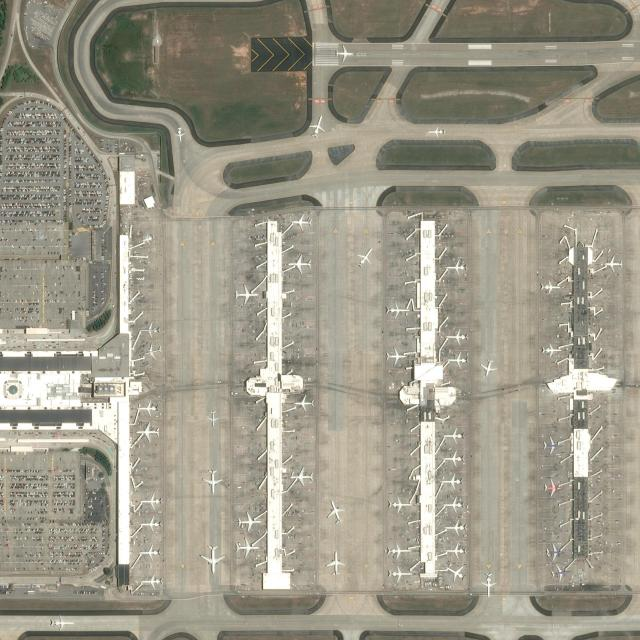aircraft: (199, 545, 224, 575), (233, 285, 258, 306), (203, 468, 223, 494), (385, 542, 412, 560), (236, 538, 260, 558), (288, 254, 312, 274), (325, 552, 345, 576), (289, 467, 314, 486), (443, 328, 468, 346), (384, 346, 406, 366), (135, 423, 159, 441), (327, 500, 345, 524), (385, 567, 412, 583), (443, 259, 468, 276), (386, 497, 414, 512), (481, 571, 497, 597), (138, 544, 161, 562), (237, 512, 260, 530), (443, 520, 467, 537), (439, 474, 464, 490), (290, 214, 312, 232), (139, 494, 163, 510), (385, 303, 409, 319), (446, 352, 470, 368), (51, 616, 75, 632), (308, 115, 326, 136), (443, 544, 468, 559), (442, 452, 465, 468), (442, 497, 465, 513), (442, 428, 466, 443), (538, 280, 562, 295), (603, 255, 623, 273), (550, 564, 570, 582), (139, 322, 161, 338), (137, 400, 159, 416), (140, 516, 162, 532), (140, 573, 162, 589), (143, 344, 163, 361), (355, 247, 372, 267), (294, 396, 315, 412), (446, 565, 467, 581), (480, 358, 498, 376), (542, 438, 561, 455), (334, 46, 354, 62), (542, 480, 562, 496), (544, 544, 564, 560), (540, 343, 562, 357), (427, 126, 446, 138), (207, 411, 220, 426), (173, 127, 186, 141), (142, 234, 154, 244)
